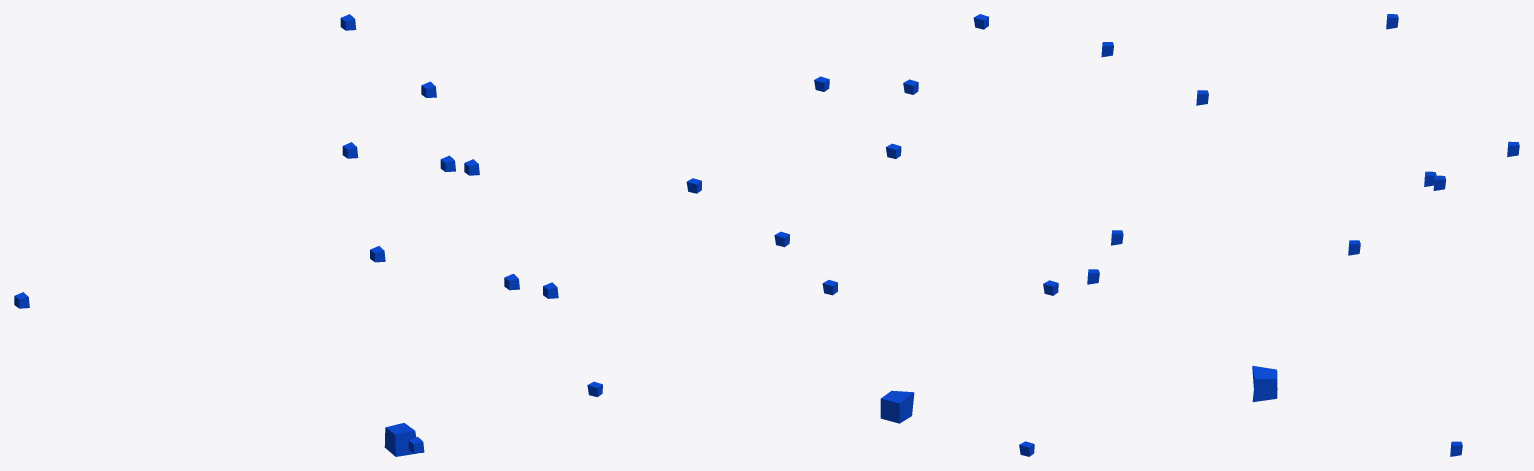
The model's file is particles.glb.
The picture shows the model from 3 angles, left to right: view 1: azimuth 30°, elevation 25°; view 2: azimuth 150°, elevation 25°; view 3: azimuth 270°, elevation 25°; orthographic projection.
Parts seen in each view (by area): view 1: Cube; view 2: Cube; view 3: Cube.
Boxes of the visible parts, box(x1,y1,x2,y2) form: Cube: box(384, 423, 417, 456); Cube: box(880, 390, 914, 423); Cube: box(1252, 365, 1277, 401).
Bounding box in the file's own units: 1.07 × 0.8341 × 0.8466.
